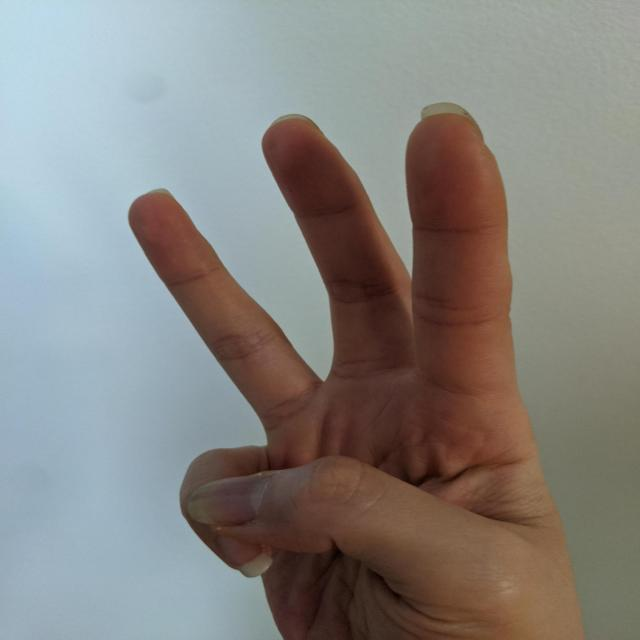W: (115, 93, 592, 640)
